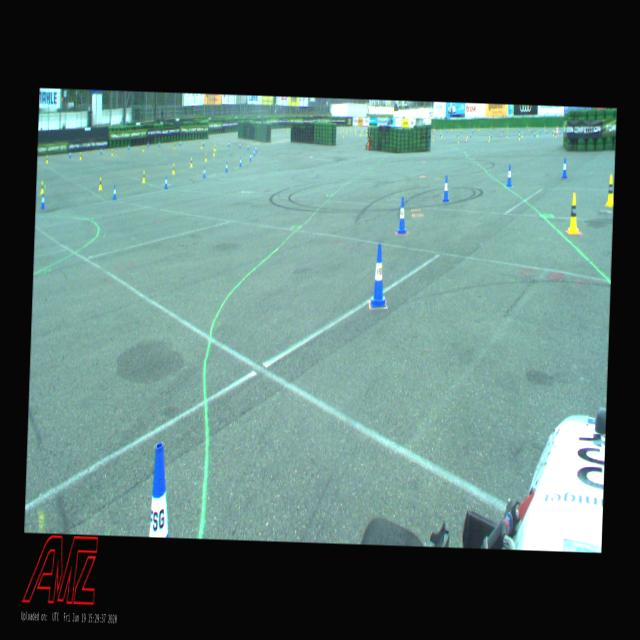blue_cone: (149, 442, 171, 536), (370, 244, 388, 308), (397, 196, 408, 234), (442, 174, 449, 202), (506, 164, 512, 186), (562, 158, 568, 178), (40, 192, 45, 208), (112, 184, 117, 200), (164, 176, 168, 188), (225, 160, 228, 172), (202, 167, 205, 178), (239, 156, 241, 166), (249, 152, 251, 160)
yellow_cone: (568, 192, 580, 234), (604, 174, 614, 207), (98, 176, 102, 189), (40, 180, 43, 194), (142, 170, 145, 182), (204, 152, 207, 161), (172, 163, 174, 174), (190, 157, 192, 167), (46, 154, 48, 164), (142, 144, 144, 152)
